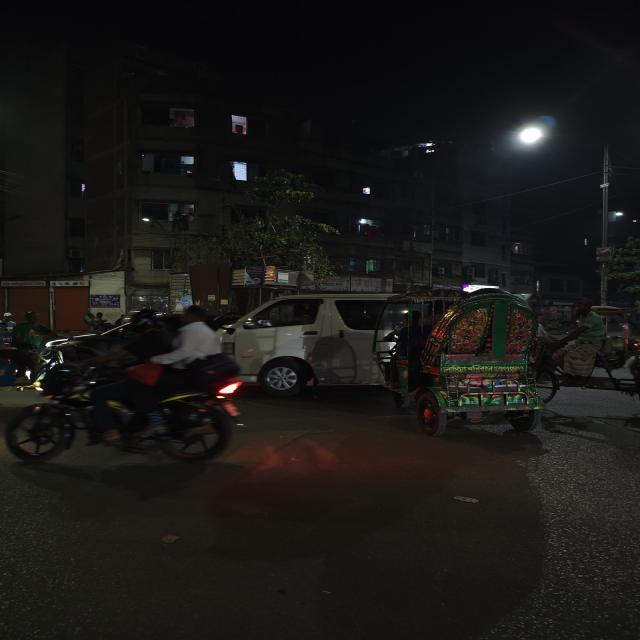car: (222, 284, 390, 409)
motorcycle: (1, 302, 248, 475), (2, 301, 249, 473)
rickshaw: (385, 288, 554, 444), (538, 294, 639, 412)
